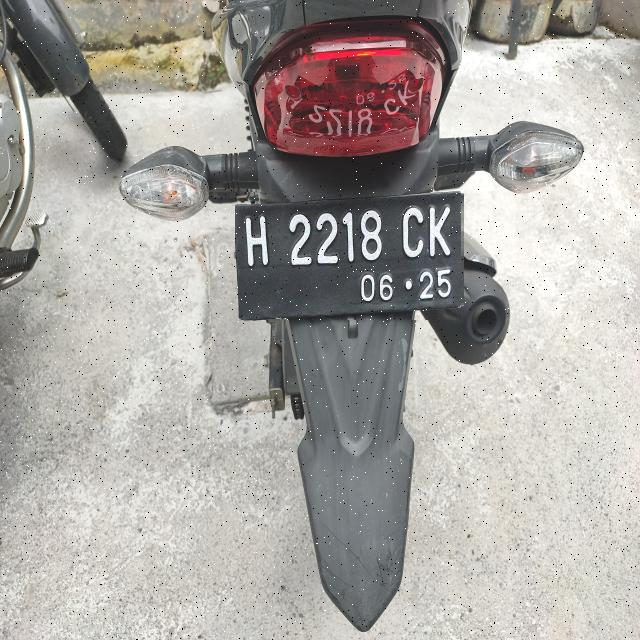plate: (235, 192, 461, 319)
